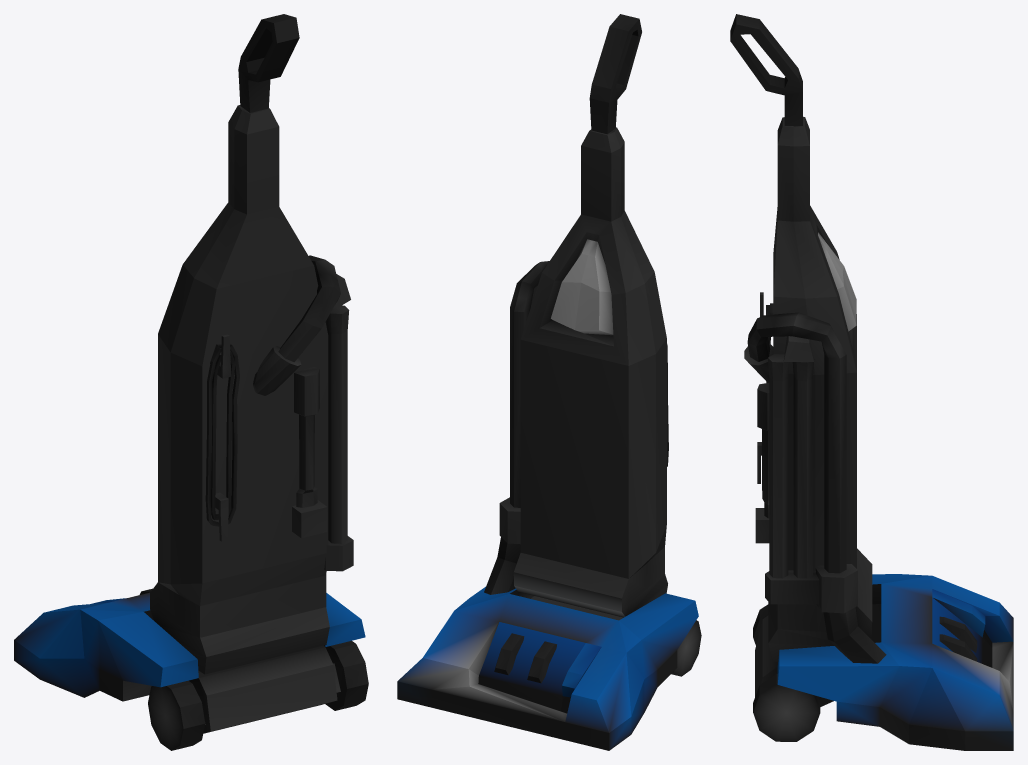
File: vacuum.fbx
3 renders of one model, left to right at view 1: azimuth 30°, elevation 25°; view 2: azimuth 150°, elevation 25°; view 3: azimuth 270°, elevation 25°, orthographic. The views are drawn at different scales.
Visible parts, largest first — view 1: Vacuum_mesh; view 2: Vacuum_mesh; view 3: Vacuum_mesh.
Boxes of the visible parts, left/top/right/bottom form: Vacuum_mesh: left=14, top=14, right=368, bottom=750; Vacuum_mesh: left=397, top=14, right=701, bottom=750; Vacuum_mesh: left=730, top=14, right=1013, bottom=750.
Size of the model in its own units: 0.3571 by 1 by 0.3776.
